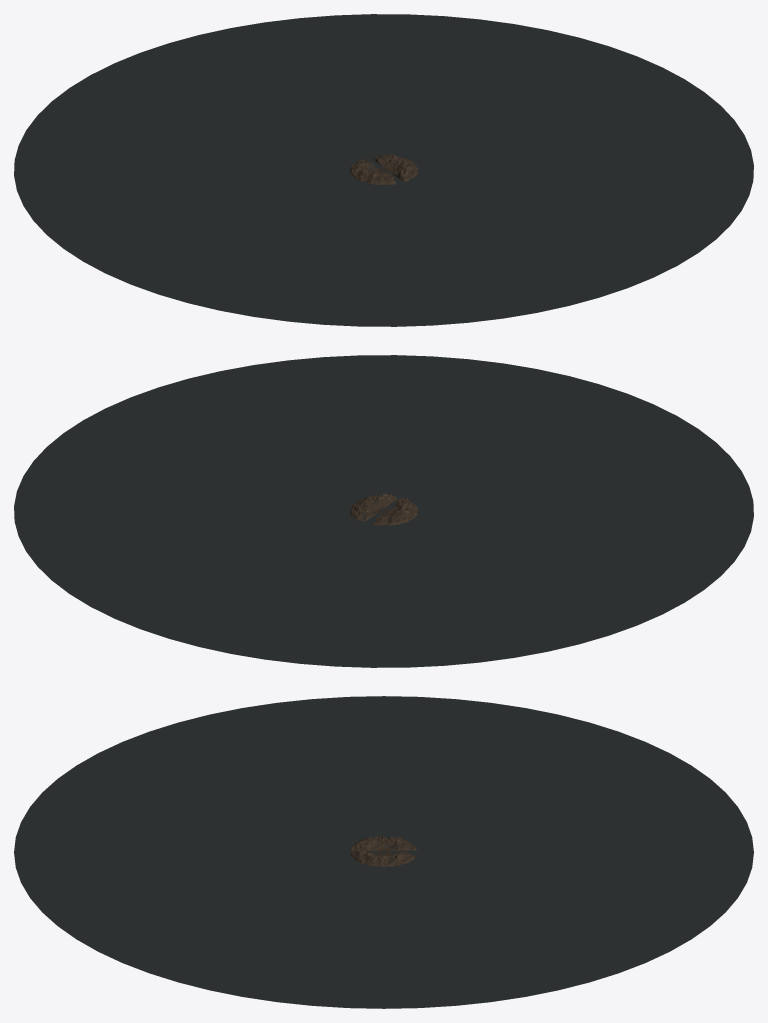
File: backdrop_near_c52_dead.glb
The picture shows the model from 3 angles, top to bottom: view 1: azimuth 30°, elevation 25°; view 2: azimuth 150°, elevation 25°; view 3: azimuth 270°, elevation 25°; orthographic projection.
Parts seen in each view (by area): view 1: water_N, water_S, water_W, water_E; view 2: water_N, water_S, water_W, water_E; view 3: water_E, water_N, water_S, water_W.
Part boxes in pixels (x1=…): water_N: x1=26, y1=14, x2=479, y2=170; water_S: x1=288, y1=170, x2=741, y2=326; water_W: x1=14, y1=130, x2=383, y2=321; water_E: x1=384, y1=19, x2=753, y2=210; water_N: x1=26, y1=511, x2=479, y2=667; water_S: x1=288, y1=355, x2=741, y2=511; water_W: x1=384, y1=471, x2=753, y2=662; water_E: x1=14, y1=360, x2=383, y2=551; water_E: x1=123, y1=852, x2=644, y2=1008; water_N: x1=384, y1=742, x2=753, y2=962; water_S: x1=14, y1=742, x2=383, y2=962; water_W: x1=123, y1=696, x2=644, y2=852.
Size of the model in its own units: 6000 by 168 by 6000.
4 materials, 3 textured.
